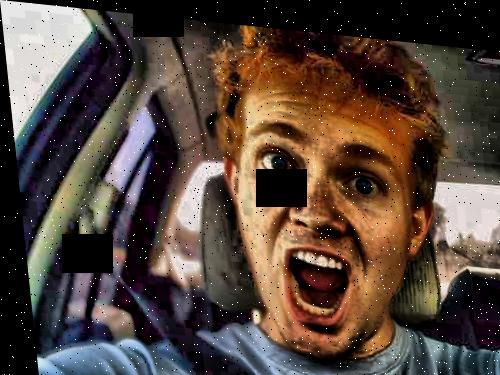seatbelt: (85, 214, 233, 372)
